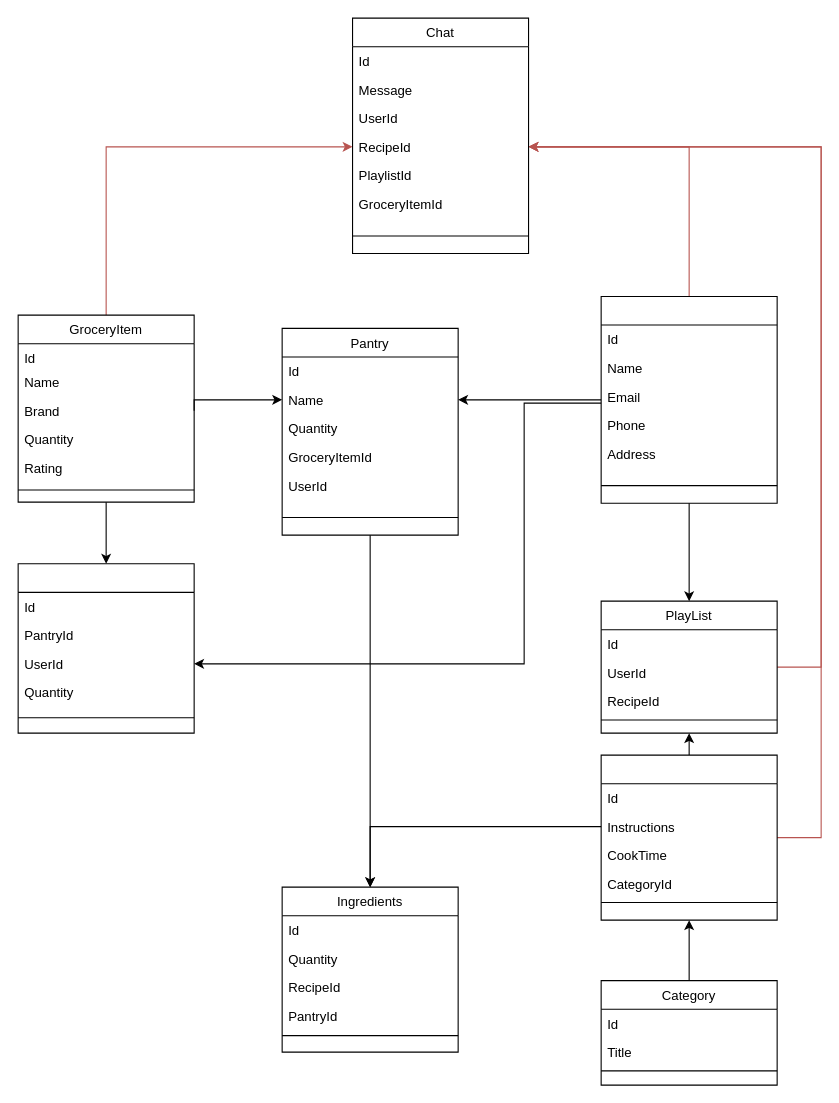
The diagram is 839 pixels wide and 1103 high, and some of its shapes have lost their labels. The shapes that lost their labels are listed below. From the top down, each one's box as (x1, y1, x2, y2) in pixels, then its label:
(600, 295, 777, 503): User
(17, 563, 194, 733): Shopping list
(600, 754, 777, 920): Recipe
